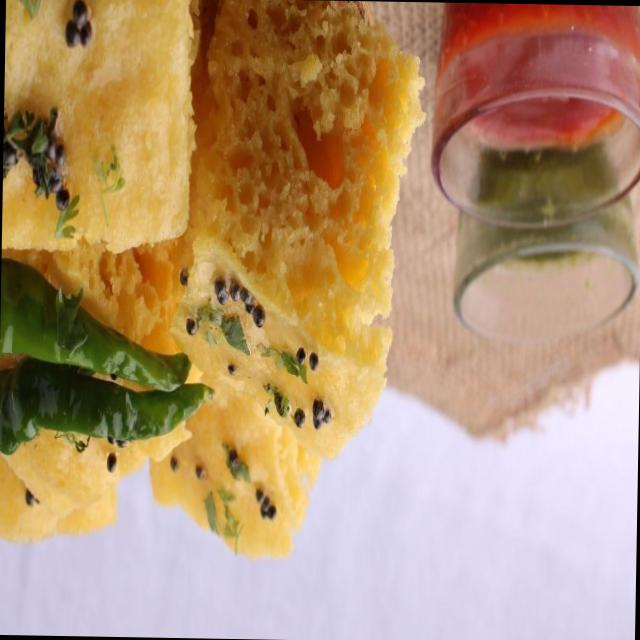dhokla: (1, 0, 407, 575)
